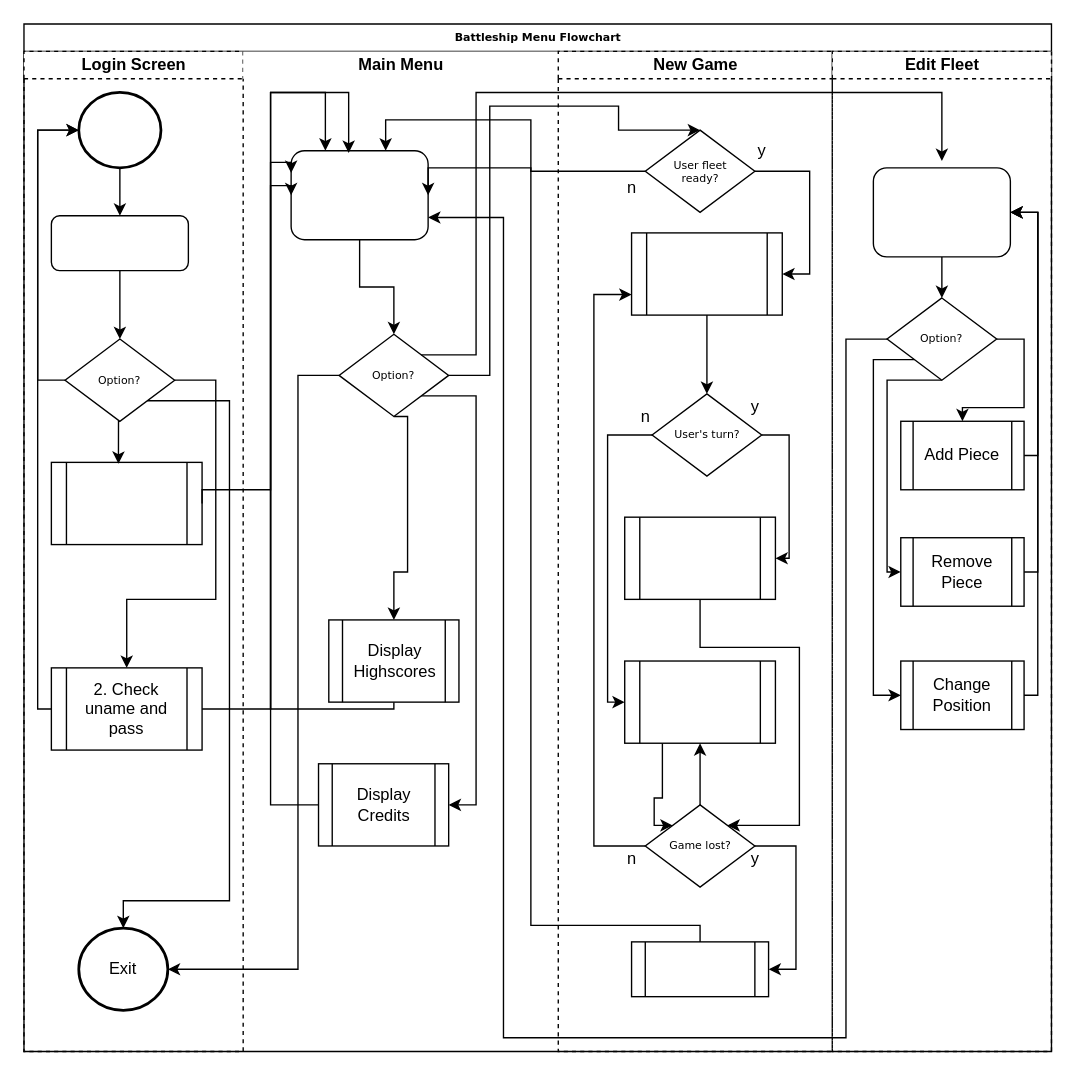
Some shapes in this 1075 by 1075 pixel diagram are drawn without their labels. Each missing label, with the centre of its shape:
1. Check unique uname and confirm pass: the point at 126,503
1.Add Piece 2.Remove Piece 3.Change Position of Piece 4.Back: the point at 941,211
1.Battle 2.Edit fleet 3.Highscores 4.Credits 3.Exit: the point at 359,194
1.Sign up 2.Sign in 3.Exit: the point at 119,242
AI attack function: the point at 699,701
Declare winner: the point at 699,969
Display both boards + notifications: the point at 706,273
Start: the point at 119,129
User attack function: the point at 699,557
